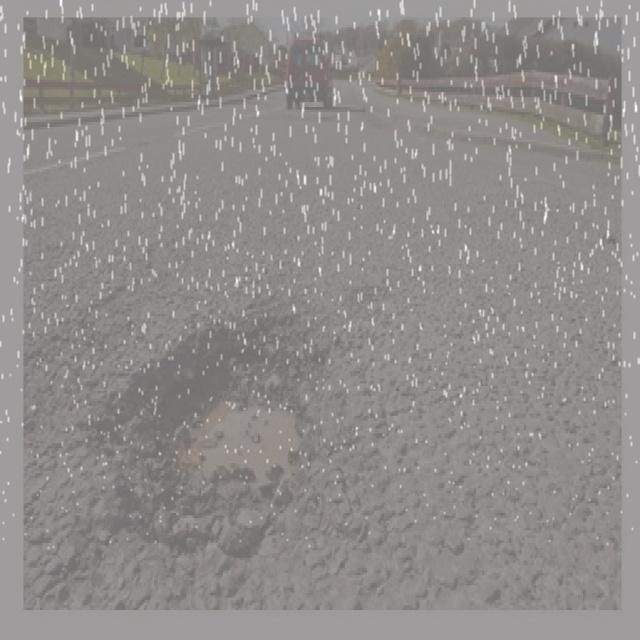Pothole: (93, 309, 354, 554)
